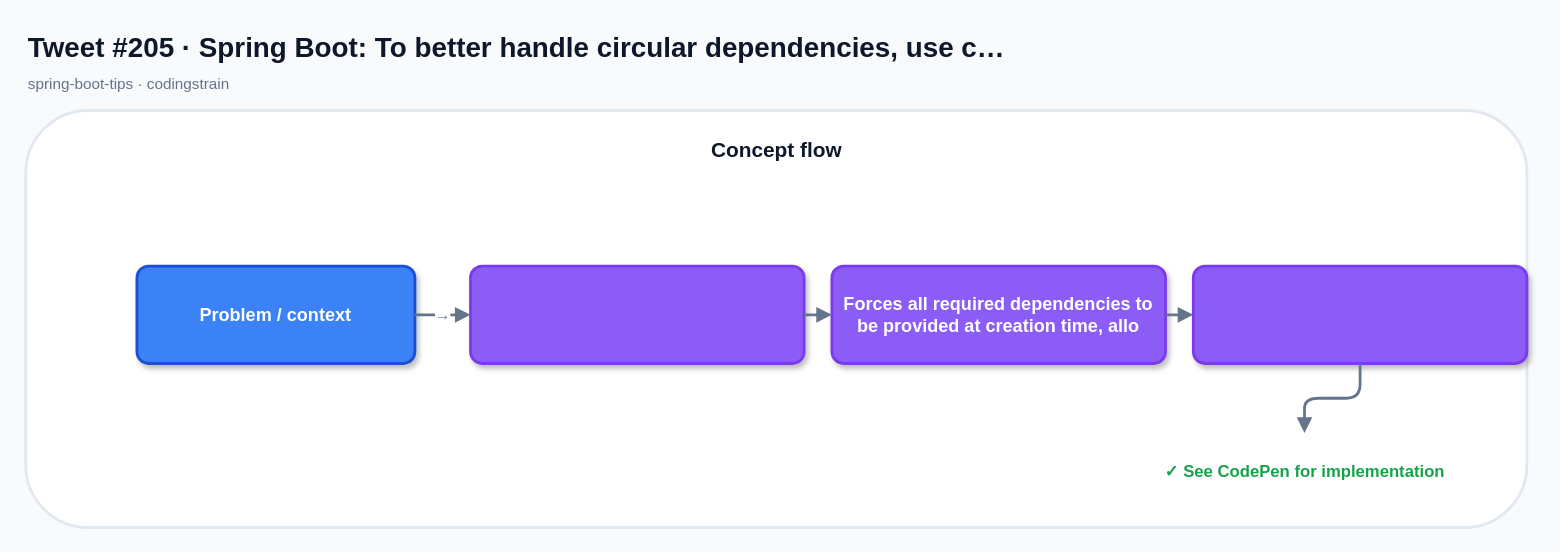
Some shapes in this 1560 by 552 pixel diagram are drawn without their labels. Each missing label, with the centre of its shape:
"#SpringBoot #JavaDev" goes at pixel 1361 316.
"💡 Spring Boot: To better handle circular dependencies, use constructor" goes at pixel 638 316.
